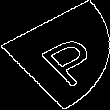P_NW: (14, 24, 96, 86)
